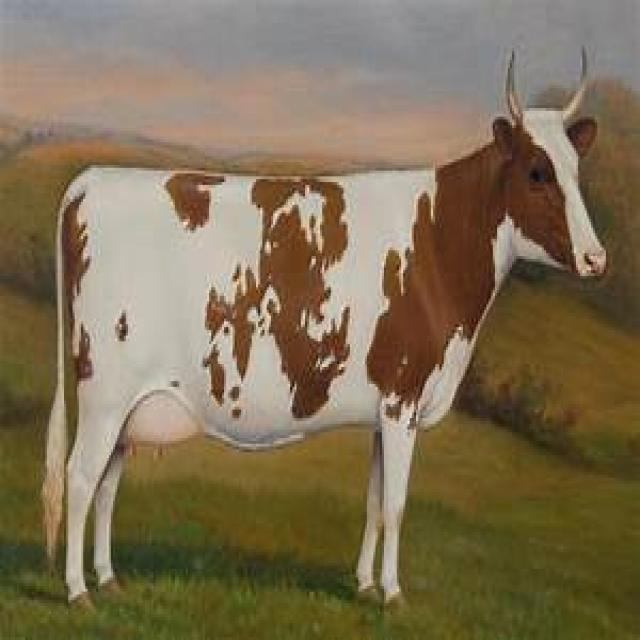cow: (41, 74, 640, 612)
